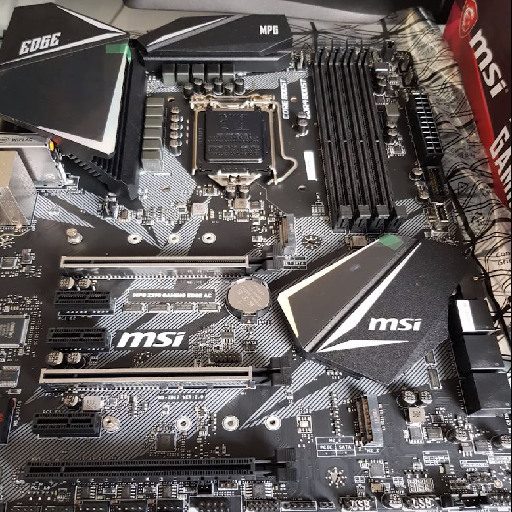CPU: (188, 95, 286, 191)
GPU: (23, 448, 296, 481), (38, 358, 291, 385), (59, 254, 285, 272)
MOTHERBOARD: (1, 5, 512, 511)
RAM: (310, 43, 405, 233)
SSD: (354, 395, 383, 445), (275, 214, 298, 249)
